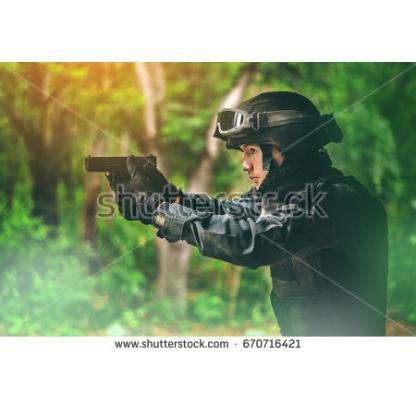gun: (82, 152, 158, 214)
